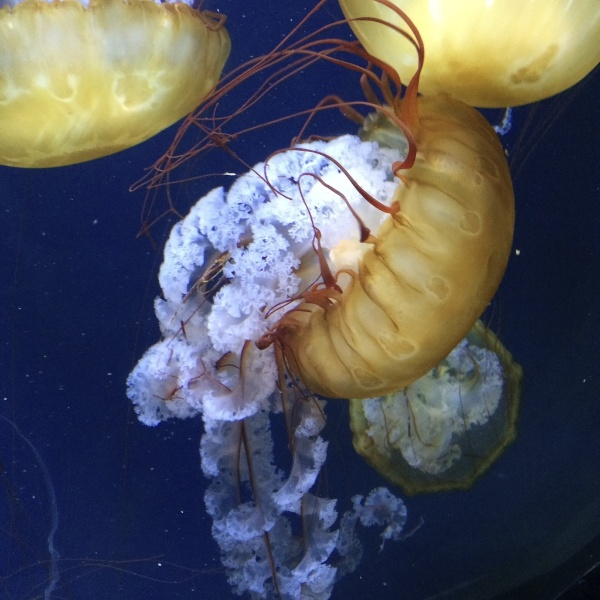Jellyfish: (123, 0, 514, 599), (0, 0, 229, 165), (342, 324, 525, 493), (339, 0, 599, 105)
